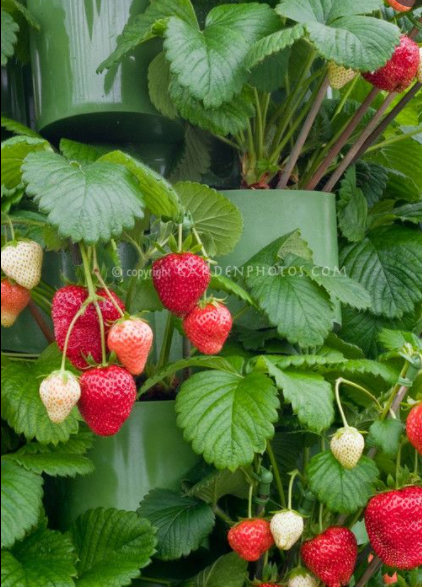ripe: (50, 284, 123, 368), (362, 480, 422, 577), (151, 249, 215, 320), (78, 365, 137, 437), (363, 30, 420, 94), (300, 527, 360, 585), (178, 296, 234, 357), (226, 518, 274, 565), (407, 398, 422, 458)
unripe: (105, 317, 155, 378), (41, 366, 83, 425), (2, 238, 46, 291), (269, 505, 305, 554), (2, 282, 36, 330), (330, 425, 366, 469)
